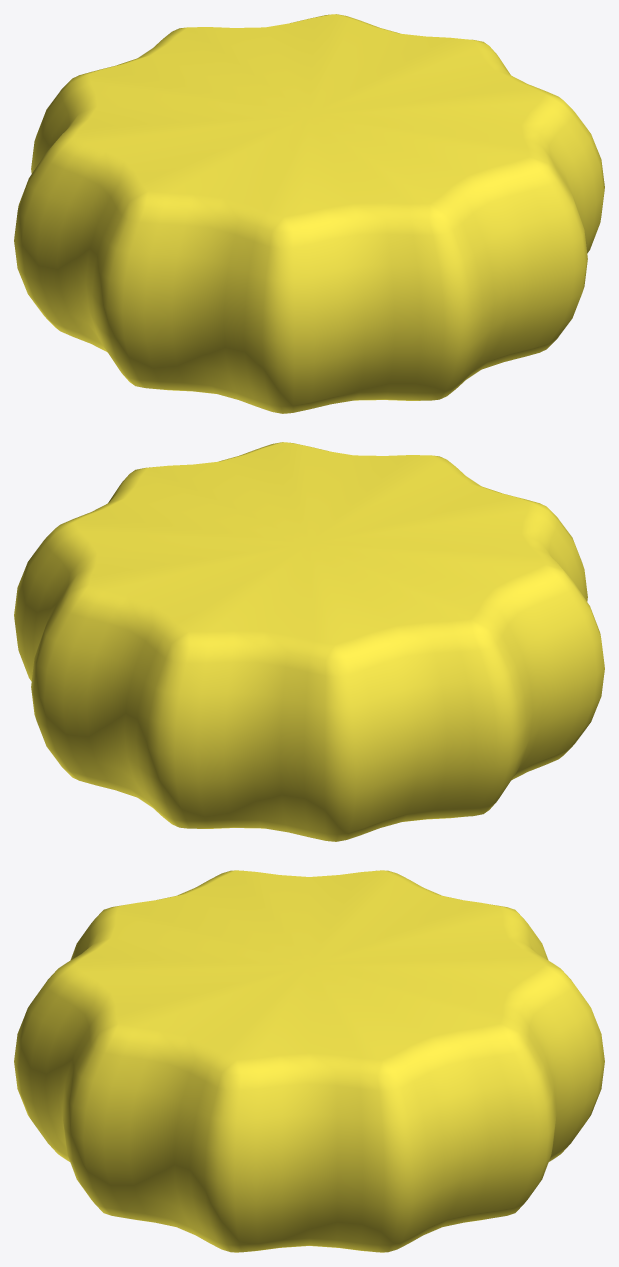
The model's file is Town_16_Bean_Bag_Chair_1.glb.
The picture shows the model from 3 angles, top to bottom: view 1: azimuth 30°, elevation 25°; view 2: azimuth 150°, elevation 25°; view 3: azimuth 270°, elevation 25°; orthographic projection. The views are drawn at different scales.
Parts seen in each view (by area): view 1: Town_16_Bean_Bag_Chair_1; view 2: Town_16_Bean_Bag_Chair_1; view 3: Town_16_Bean_Bag_Chair_1.
Boxes of the visible parts, x1,y1,x2,y2 form: Town_16_Bean_Bag_Chair_1: (14,14,604,413); Town_16_Bean_Bag_Chair_1: (14,442,604,841); Town_16_Bean_Bag_Chair_1: (14,870,604,1252).
Size of the model in its own units: 1.02 by 0.3855 by 1.07.
1 material, 1 textured.
